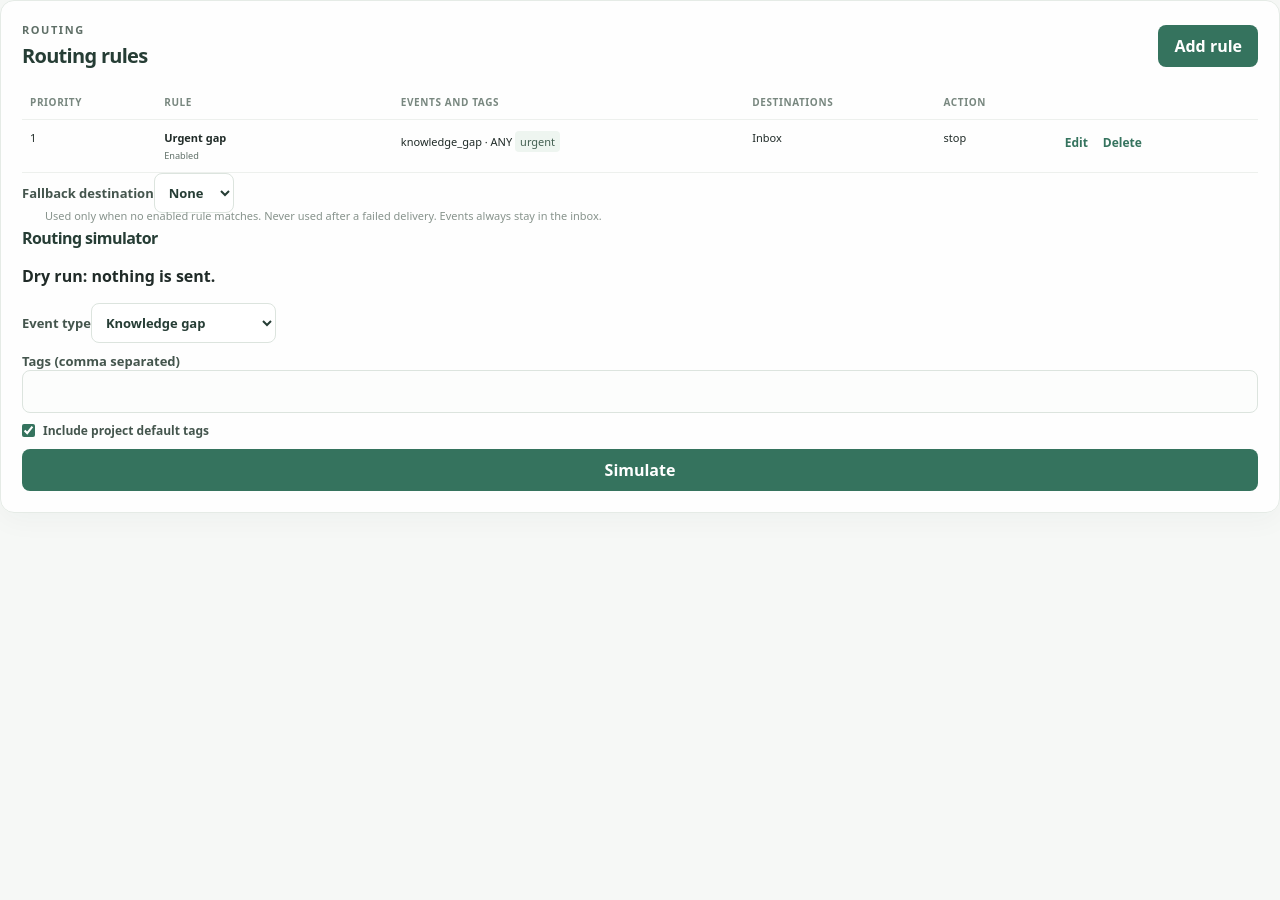
Test: Routing UI › posts a dry run and renders match, stop, fallback and warnings
The image size is (1280, 900).
Click the button "Simulate".
click(640, 470)  # box [22,449,1258,491]
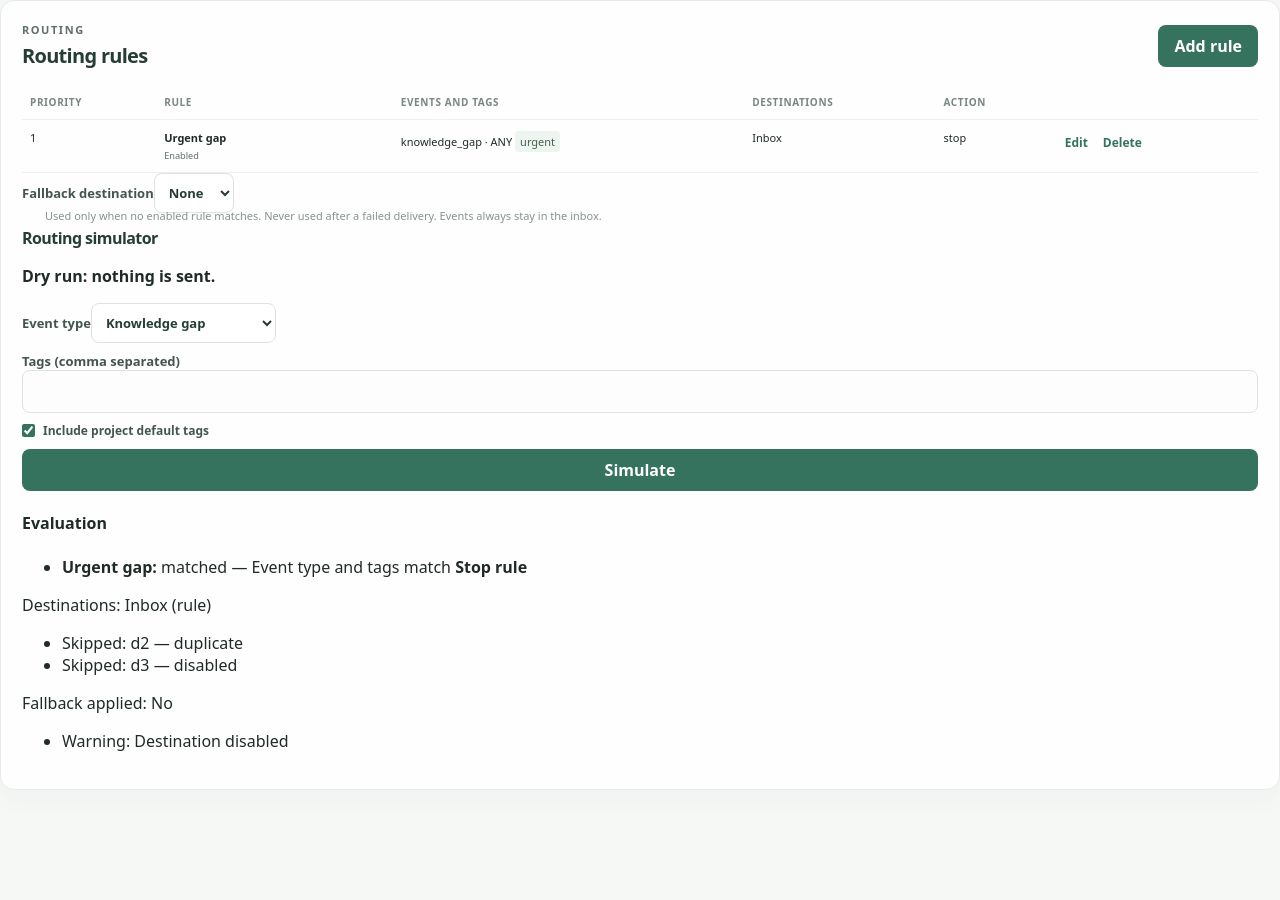
Now the text "matched" is shown, box [161,556,227,578]
Now the text "Destinations: Inbox (rule)" is shown, box [22,594,211,616]
Now the text "duplicate" is shown, box [174,632,243,654]
